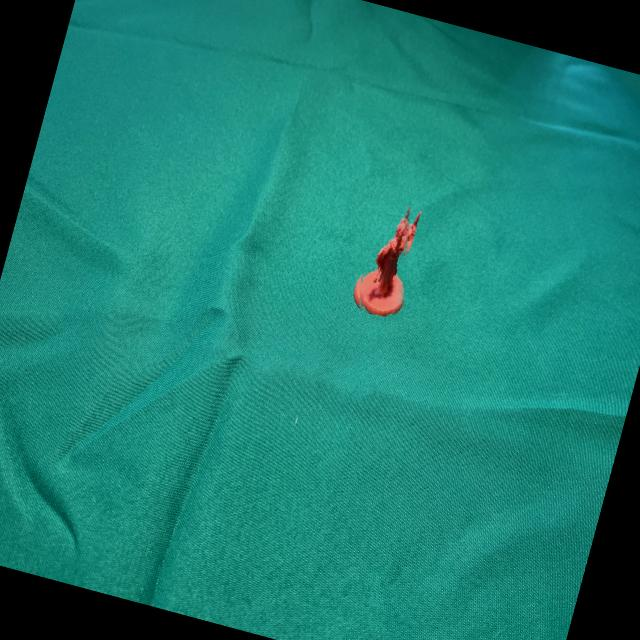amon_follower: (360, 206, 410, 315)
